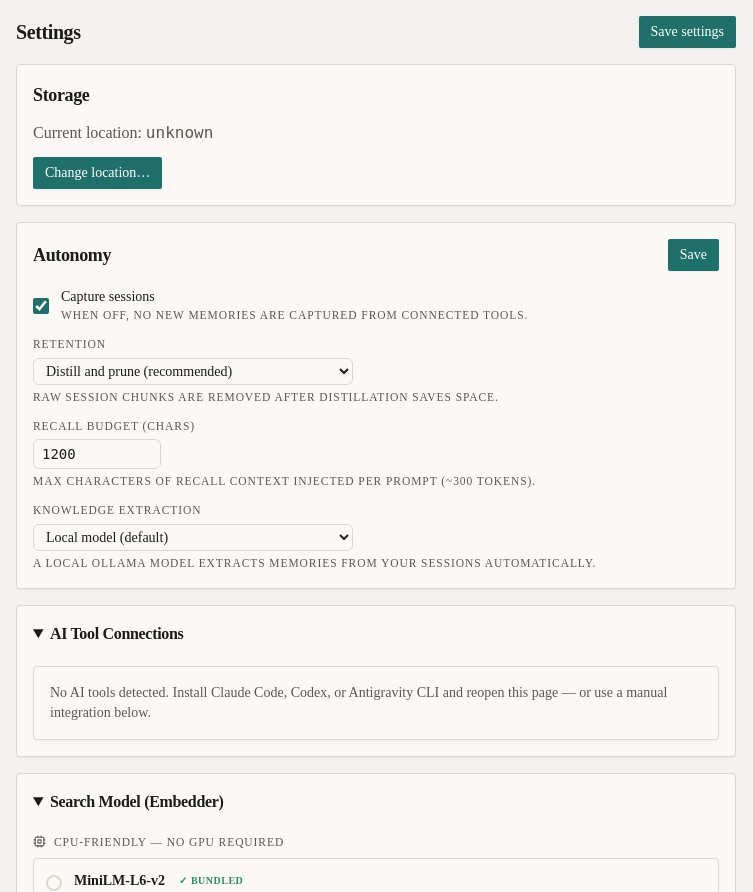
Scenario: shows an error alert below Save when putConfig fails (P1-16)
The width and height of the screenshot is (753, 892).
Click the button "Save settings": (687, 32) [638, 16, 736, 48]
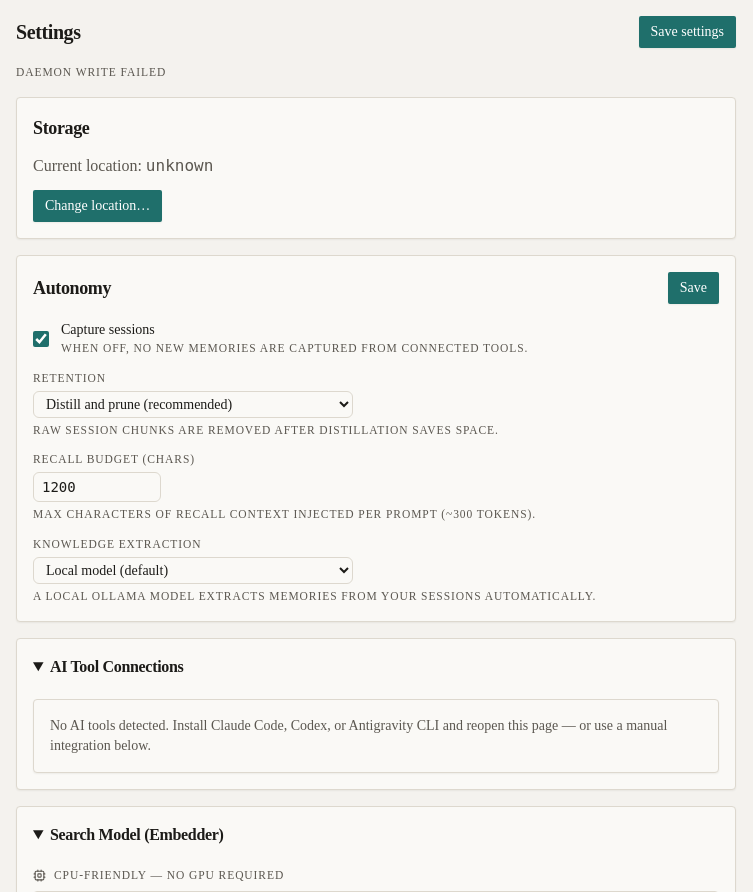
Expected: the message reads "daemon write failed", [16, 66, 166, 78]
